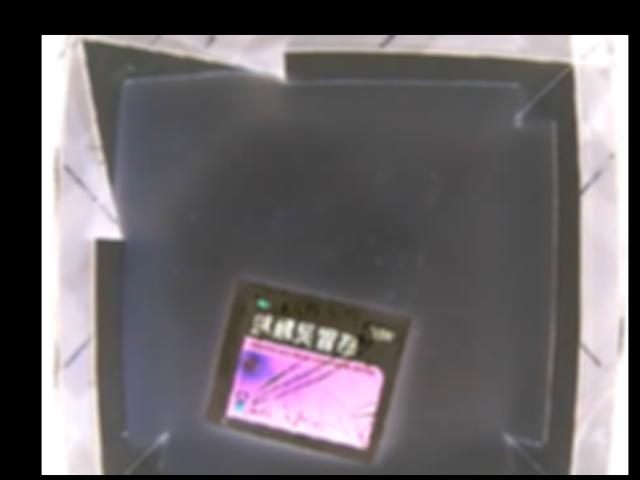Medicine: (202, 276, 416, 463)
